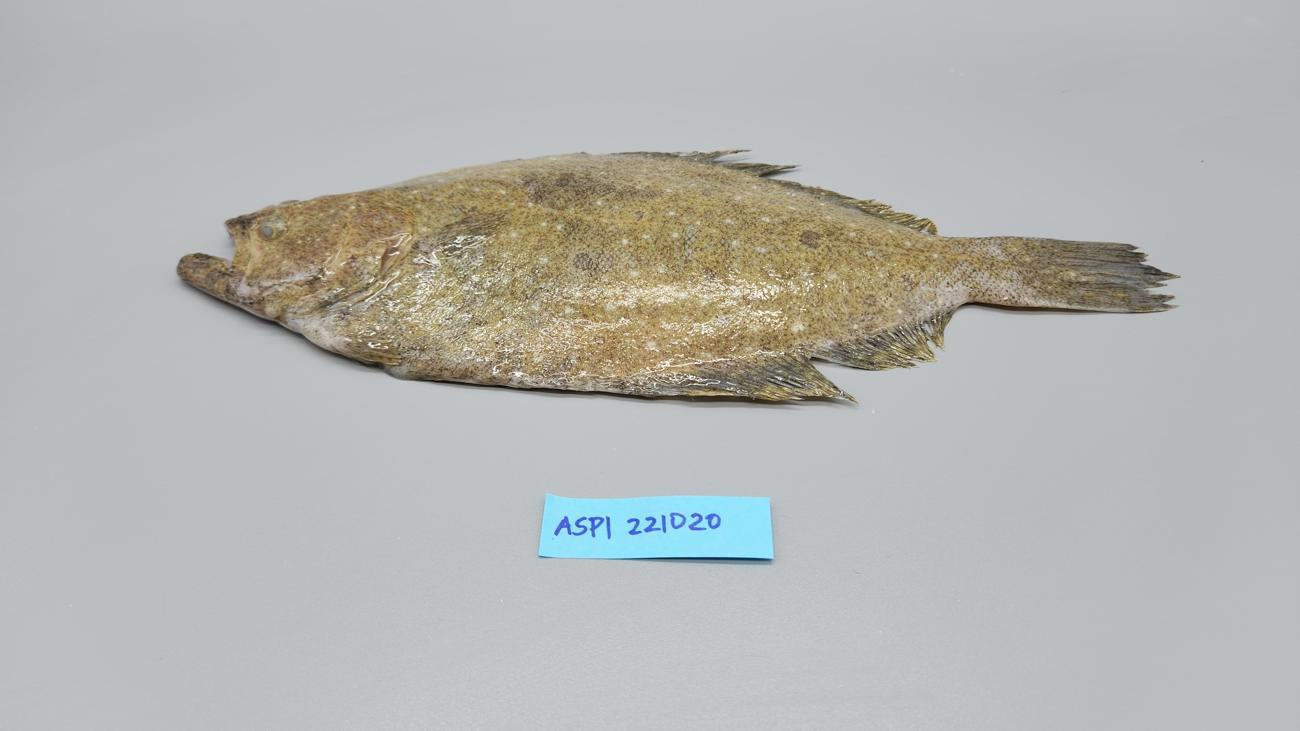SPDYH: (531, 314, 731, 370), (520, 170, 663, 224)
SPOUY: (168, 138, 1193, 418)
